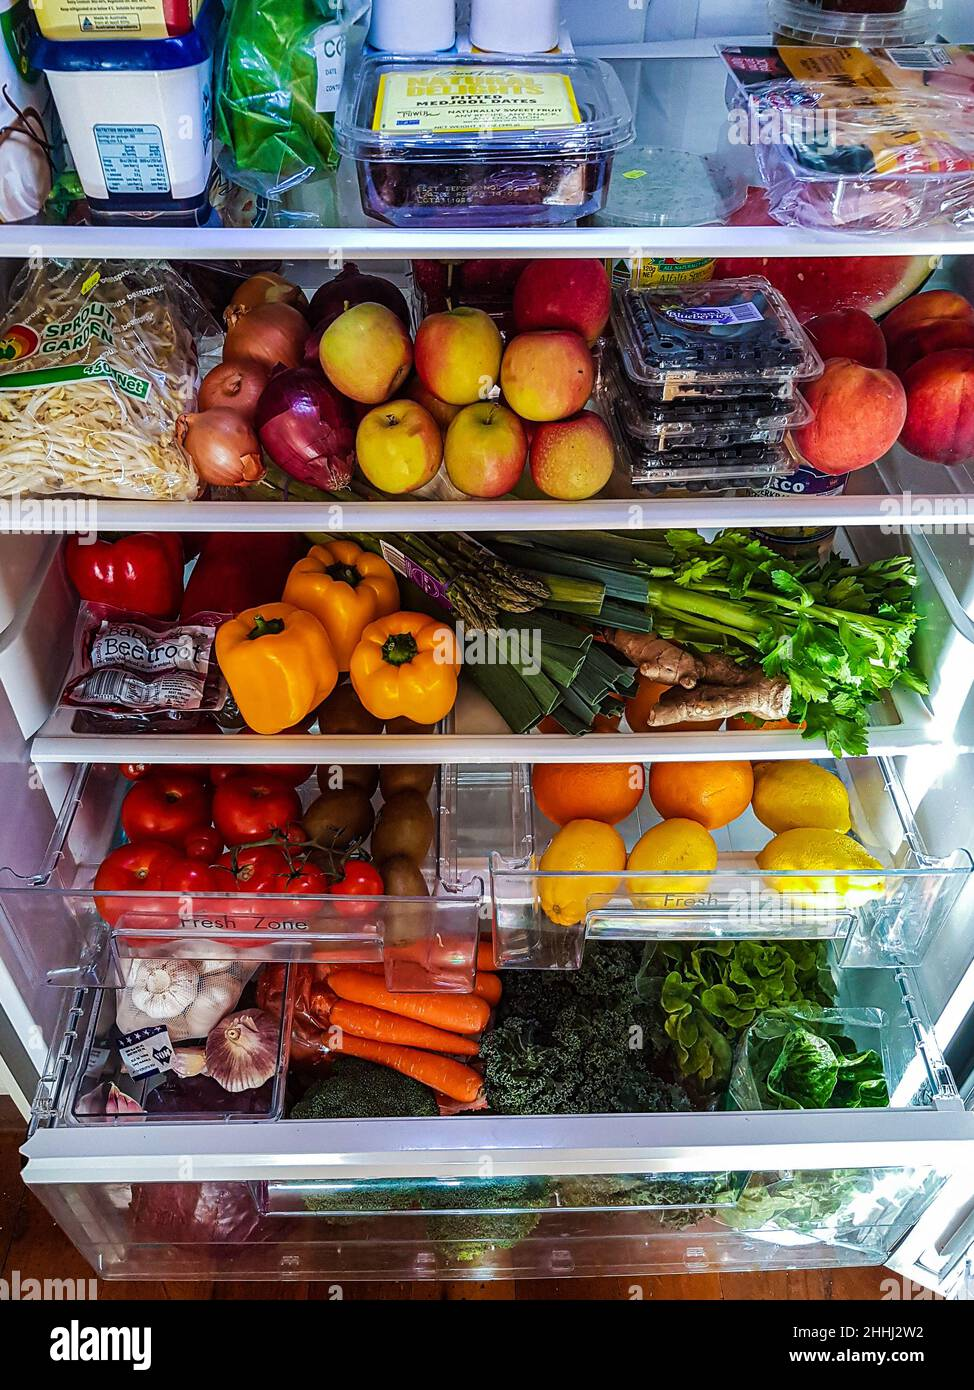Bell Pepper: (196, 606, 363, 741), (334, 612, 485, 735), (280, 545, 397, 680)
Carrot: (314, 1017, 486, 1106), (323, 964, 493, 1035), (318, 1000, 486, 1063)
Cilantro: (487, 528, 932, 762)
Onion: (254, 362, 360, 499), (172, 402, 274, 492), (214, 300, 308, 390), (194, 358, 269, 425)
Orange: (528, 749, 647, 832), (647, 753, 758, 830)
Spinach: (742, 1026, 889, 1237)
Tomato: (92, 839, 193, 948), (194, 844, 294, 948), (120, 769, 212, 846), (211, 769, 303, 846), (326, 860, 385, 916), (270, 859, 327, 915), (181, 824, 225, 864)
